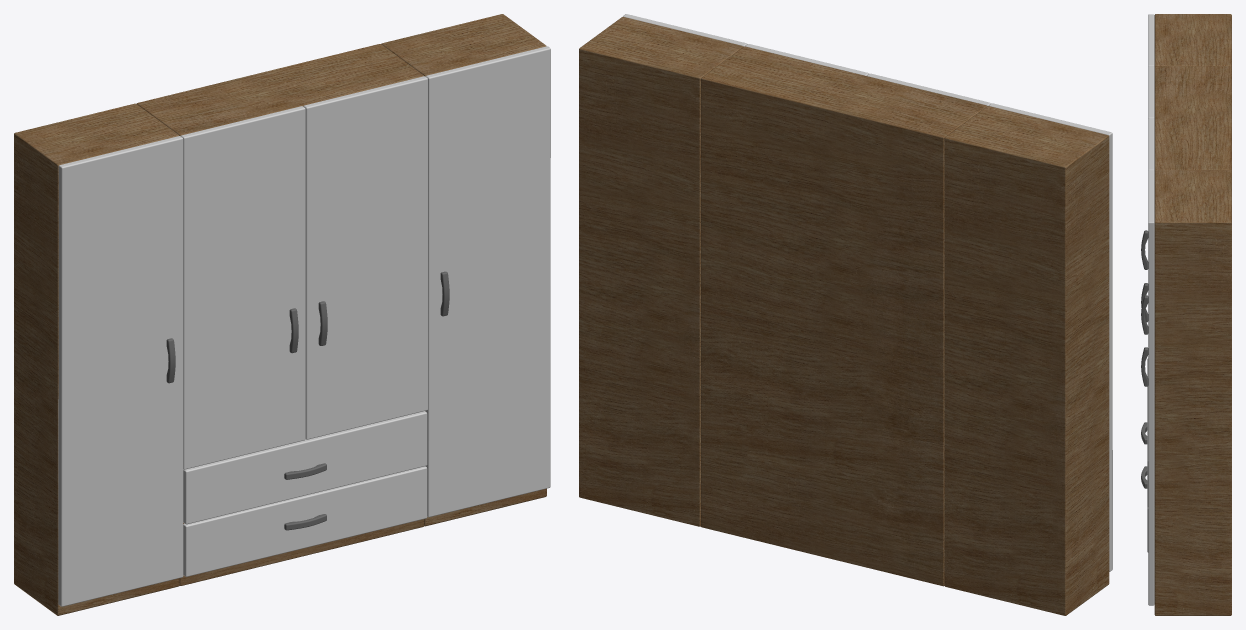
File: whitewoodenwardrobe.fbx
The picture shows the model from 3 angles, left to right: view 1: azimuth 30°, elevation 25°; view 2: azimuth 150°, elevation 25°; view 3: azimuth 270°, elevation 25°; orthographic projection. The views are drawn at different scales.
Visible parts, largest first — view 1: WhiteWoodenWardrobe, wardrobe.1, wardrobe; view 2: WhiteWoodenWardrobe, wardrobe.1, wardrobe; view 3: wardrobe, WhiteWoodenWardrobe, wardrobe.1.
Boxes of the visible parts, x1,y1,x2,y2 form: WhiteWoodenWardrobe: (136,44,427,585); wardrobe.1: (14,103,183,615); wardrobe: (381,14,550,526); WhiteWoodenWardrobe: (701,44,990,586); wardrobe.1: (944,103,1112,615); wardrobe: (579,14,746,526); wardrobe: (1141,170,1231,615); WhiteWoodenWardrobe: (1141,66,1231,552); wardrobe.1: (1141,14,1231,269).
Bounding box in the file's own units: 205 × 181 × 37.67.
